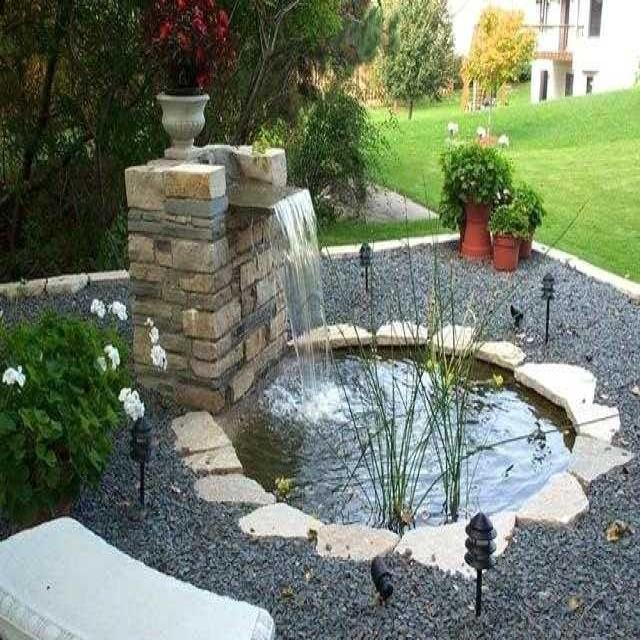Ponds: (173, 326, 622, 571)
